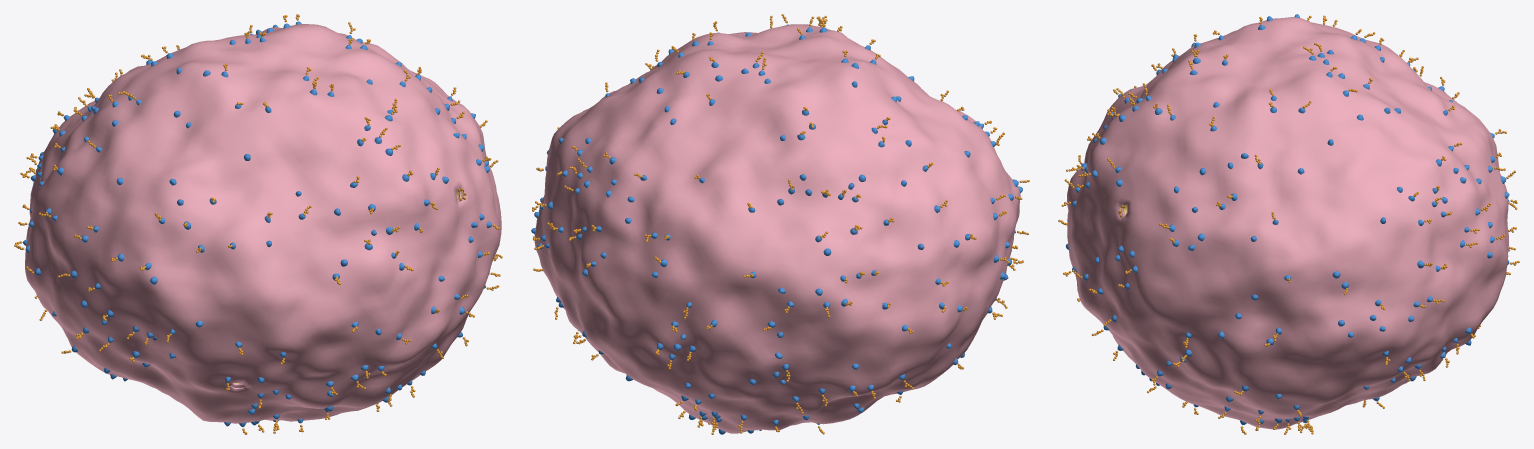
File: celula-animal.glb
3 renders of one model, left to right at view 1: azimuth 30°, elevation 25°; view 2: azimuth 150°, elevation 25°; view 3: azimuth 270°, elevation 25°, orthographic. The views are drawn at different scales.
Visible parts, largest first — view 1: membrana, proteinas_membrana, glicocalix; view 2: membrana, proteinas_membrana, glicocalix; view 3: membrana, proteinas_membrana, glicocalix.
Boxes of the visible parts, x1=… form: membrana: x1=25, y1=24, x2=501, y2=423; proteinas_membrana: x1=22, y1=21, x2=491, y2=427; glicocalix: x1=14, y1=14, x2=502, y2=434; membrana: x1=534, y1=24, x2=1020, y2=433; proteinas_membrana: x1=531, y1=24, x2=1022, y2=434; glicocalix: x1=532, y1=14, x2=1029, y2=434; membrana: x1=1067, y1=17, x2=1508, y2=429; proteinas_membrana: x1=1065, y1=14, x2=1509, y2=425; glicocalix: x1=1058, y1=15, x2=1519, y2=434.
Size of the model in its own units: 6.86 by 5.53 by 6.37.
